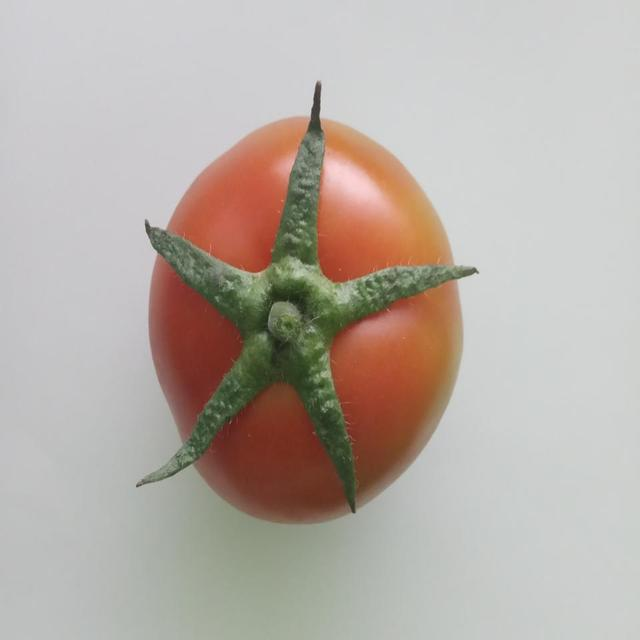Healthy Fruit: (89, 51, 317, 354)
